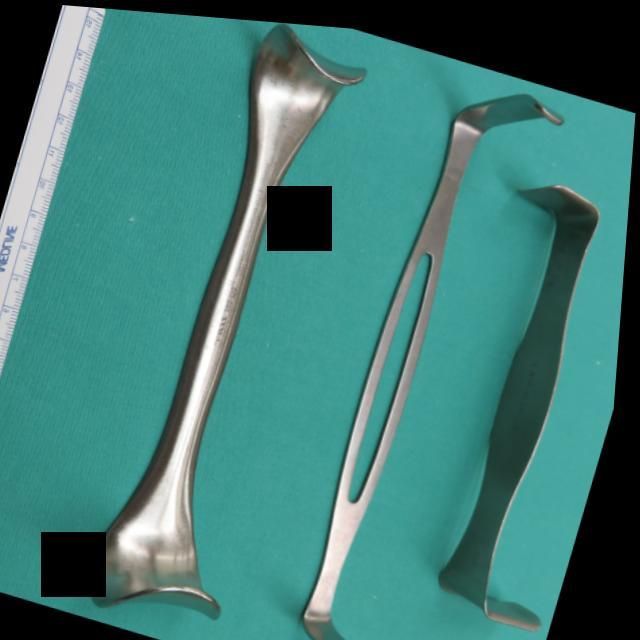Army Navy Retractor: (282, 40, 576, 640)
